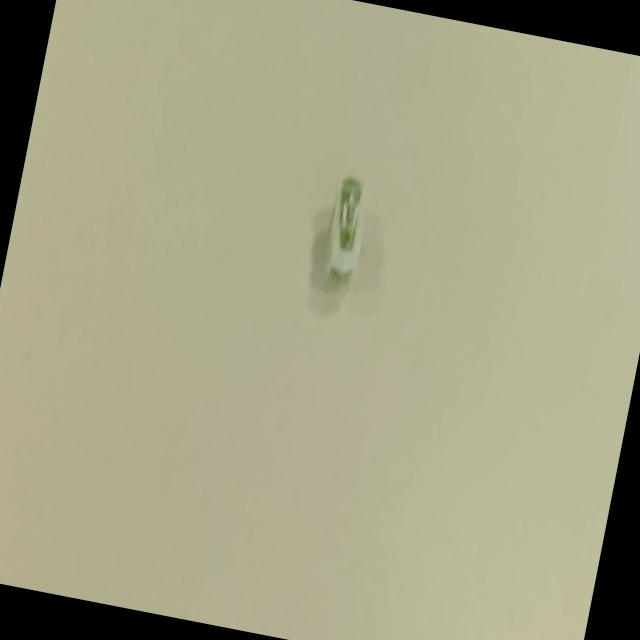4_NanoBug_Blanco: (245, 112, 440, 338)
